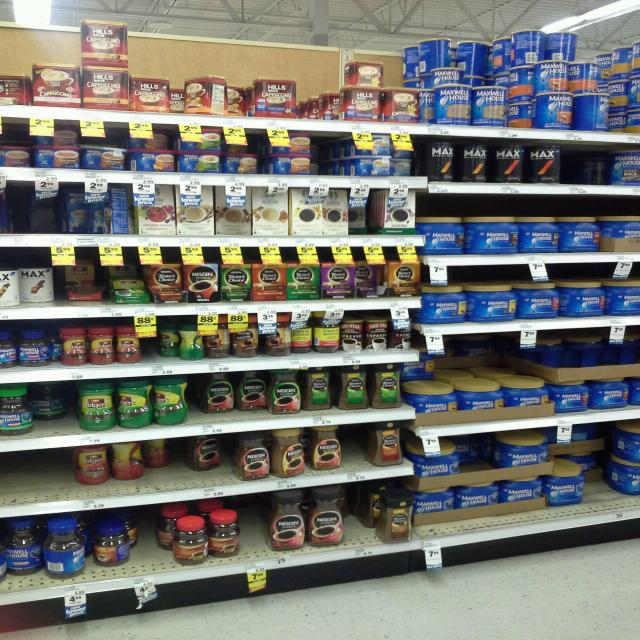empty_space: (6, 459, 62, 490), (344, 427, 372, 465), (139, 517, 157, 572), (575, 153, 606, 183), (244, 506, 257, 555)
